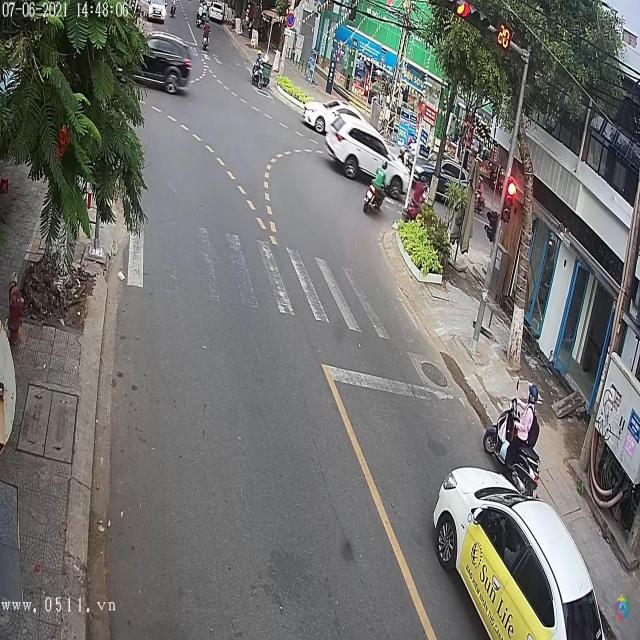car: (324, 106, 393, 182), (139, 34, 194, 92), (300, 102, 343, 136), (147, 1, 166, 24)
motorcycle: (483, 393, 540, 494), (362, 172, 388, 216)
